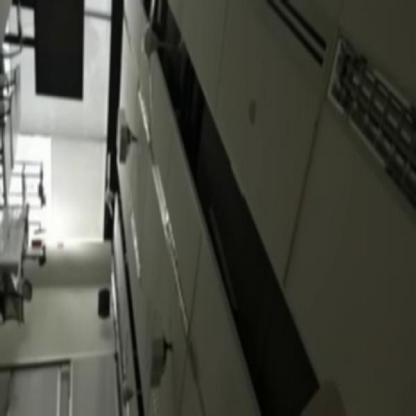light_off: (323, 25, 414, 229), (154, 193, 204, 343), (133, 74, 155, 147)
